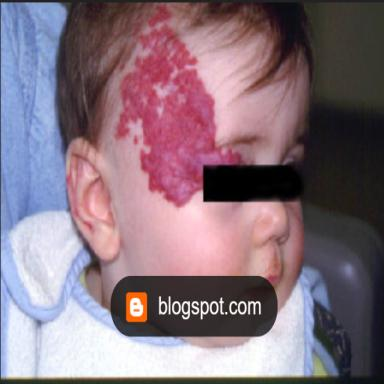Hemangiome: (117, 24, 240, 205)
